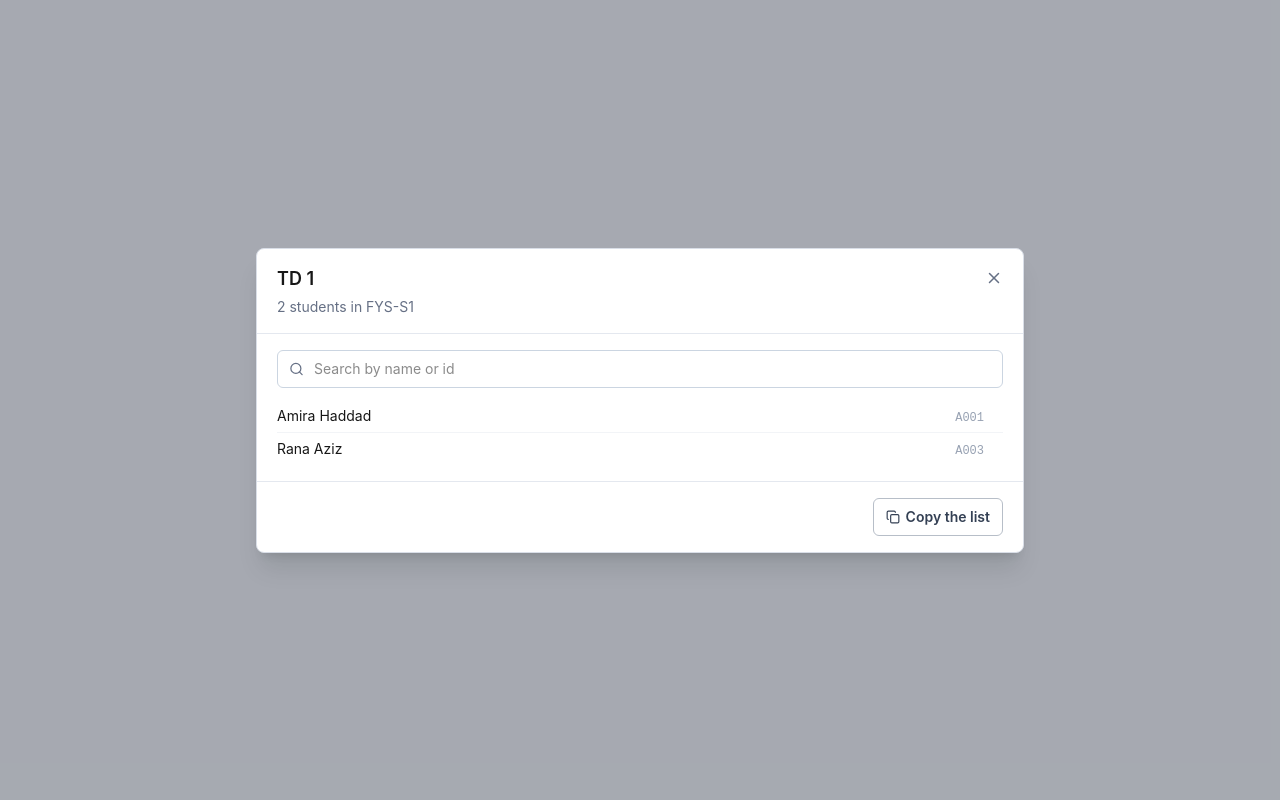
Test case: looking one of them up › narrows the list to what is typed, by name or by id
Expected: the list is shown, 277,400 -> 1003,464
Step 1. Type "rana" into the search field named "Search this group" → (640, 368), box 277,350 -> 1003,388
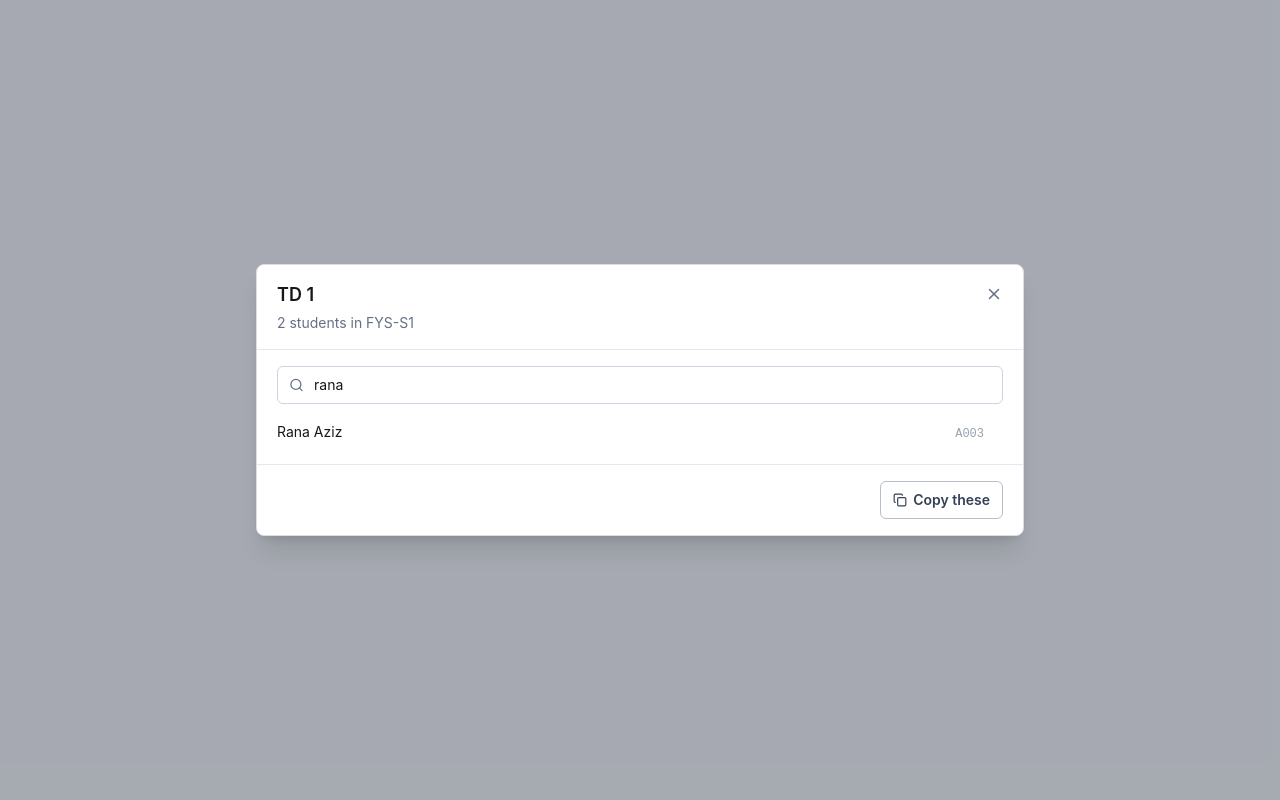
Expected: the text "Rana Aziz" is shown, 277,422 -> 342,442
Now the number of list items is 1, box 277,416 -> 1003,448
// And by id, which is what somebody pastes out of an e-mail from the registrar.
Step 2. Replace the text in the search field named "Search this group" with "A001" → (640, 385), box 277,366 -> 1003,404
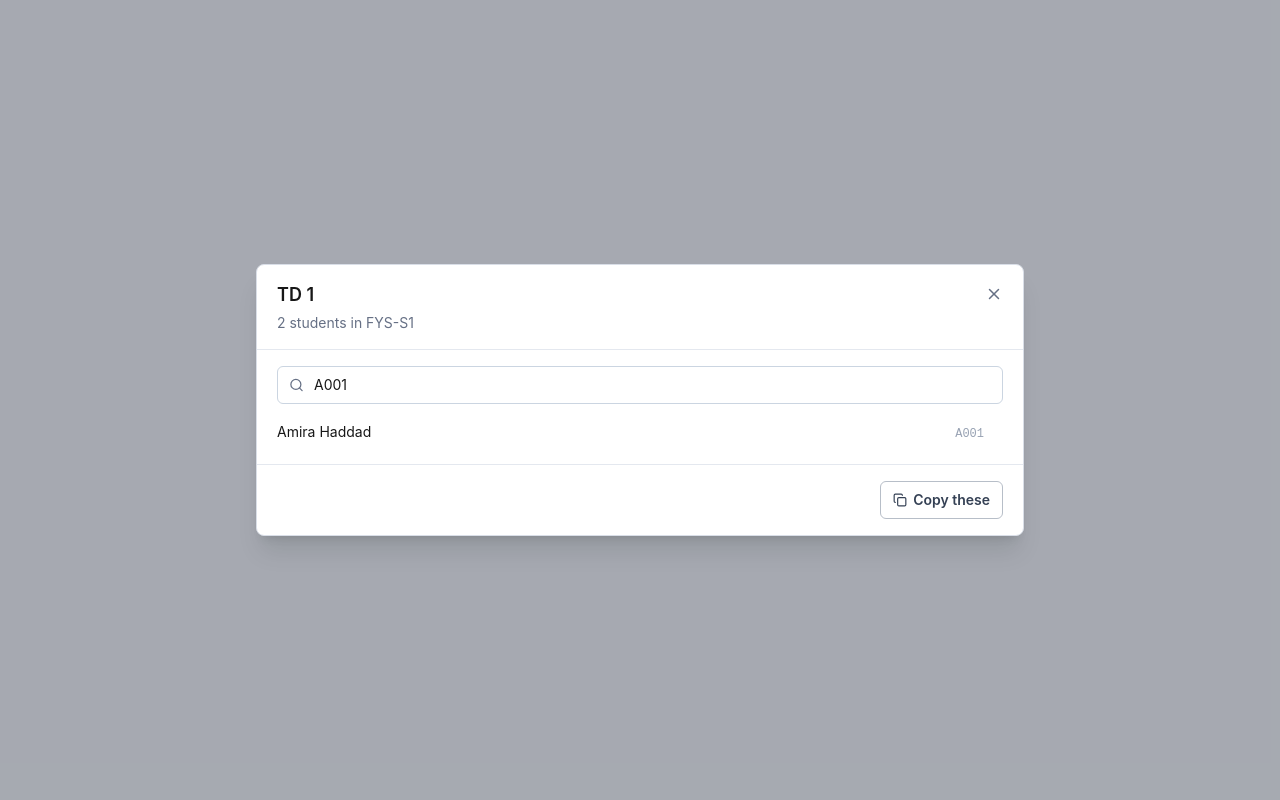
Now the number of list items is 1, box 277,416 -> 1003,448
Now the text "Amira Haddad" is shown, box 277,422 -> 371,442
